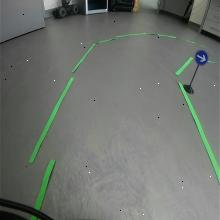right: (194, 48, 208, 67)
